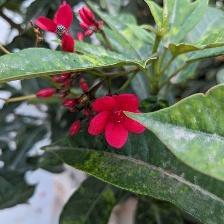jatropha: (90, 94, 150, 151)
